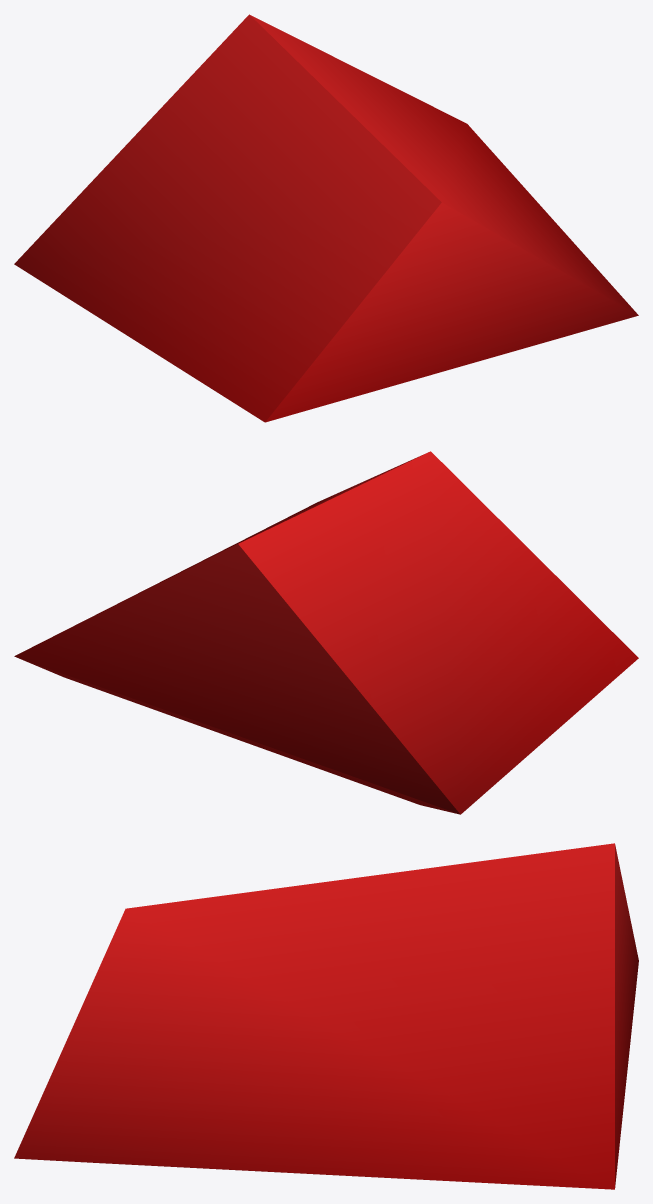
File: c_roof_squaretri_aa.fbx
3 views of the same model, one above another, from view 1: azimuth 30°, elevation 25°; view 2: azimuth 150°, elevation 25°; view 3: azimuth 270°, elevation 25° (orthographic). The views are drawn at different scales.
Visible parts, largest first — view 1: c_roof_squaretri_aa; view 2: c_roof_squaretri_aa; view 3: c_roof_squaretri_aa.
Part boxes in pixels (x1,y1,x2,y2): c_roof_squaretri_aa: [14, 14, 638, 422]; c_roof_squaretri_aa: [14, 451, 638, 814]; c_roof_squaretri_aa: [14, 843, 638, 1189].
Size of the model in its own units: 8.37 by 3.9 by 7.92.
